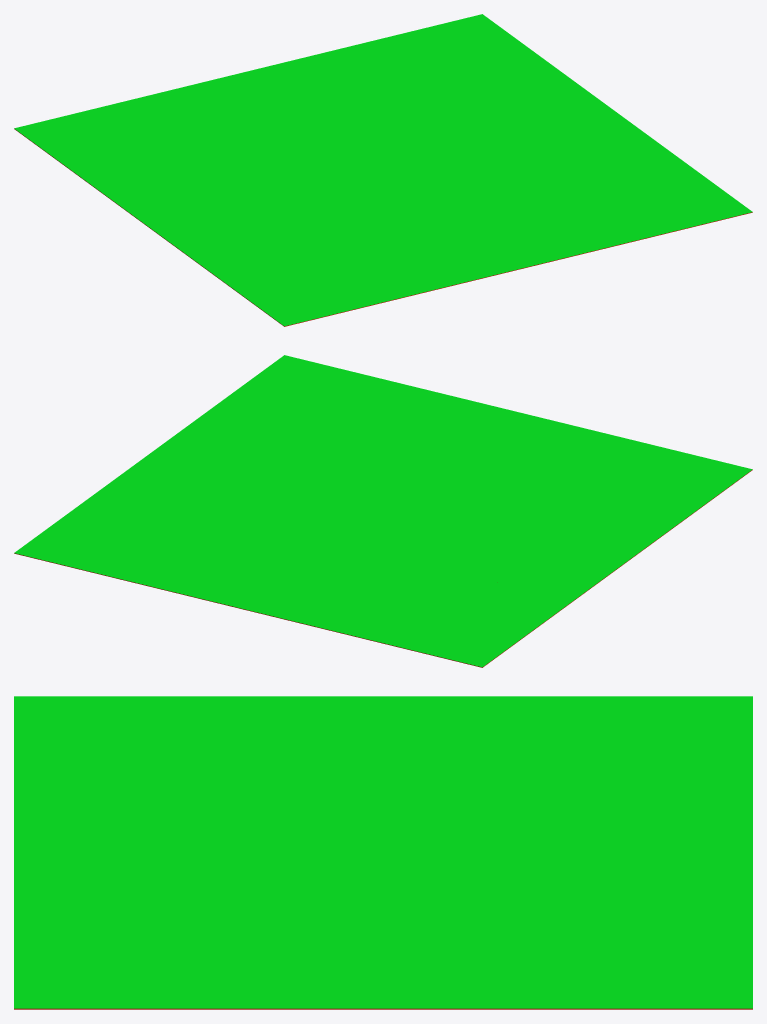
File: nowy2_kolor_Podzial.fbx
3 renders of one model, top to bottom at view 1: azimuth 30°, elevation 25°; view 2: azimuth 150°, elevation 25°; view 3: azimuth 270°, elevation 25°, orthographic. The views are drawn at different scales.
Visible parts, largest first — view 1: Plane.006, Plane.014, Plane.001, Plane.024, Plane.016, Plane.010, Plane.015, Plane.011, Plane.018, Plane.008, Plane.002, Plane.023 (+10 smaller); view 2: Plane.006, Plane.014, Plane.001, Plane.024, Plane.010, Plane.016, Plane.015, Plane.011, Plane.008, Plane.018, Plane.002, Plane.023 (+10 smaller); view 3: Plane.014, Plane.006, Plane.024, Plane.001, Plane.010, Plane.016, Plane.015, Plane.011, Plane.018, Plane.008, Plane.023, Plane.002 (+10 smaller).
Part boxes in pixels (box(x1,y1,x2,y2)): Plane.006: box(304, 32, 468, 170); Plane.014: box(384, 35, 521, 178); Plane.001: box(148, 25, 447, 123); Plane.024: box(490, 33, 675, 171); Plane.016: box(284, 240, 438, 326); Plane.010: box(203, 229, 338, 326); Plane.015: box(339, 170, 462, 251); Plane.011: box(239, 161, 382, 240); Plane.018: box(438, 179, 560, 251); Plane.008: box(145, 152, 303, 228); Plane.002: box(14, 95, 185, 167); Plane.023: box(609, 155, 752, 235); Plane.006: box(63, 511, 404, 569); Plane.014: box(58, 477, 382, 547); Plane.001: box(58, 556, 386, 634); Plane.024: box(40, 411, 273, 538); Plane.010: box(550, 469, 752, 534); Plane.016: box(523, 435, 751, 492); Plane.015: box(362, 450, 549, 511); Plane.011: box(384, 492, 575, 544); Plane.008: box(405, 534, 576, 585); Plane.018: box(341, 410, 522, 477); Plane.002: box(348, 606, 536, 667); Plane.023: box(207, 355, 377, 427); Plane.014: box(304, 852, 702, 996); Plane.006: box(384, 819, 724, 987); Plane.024: box(225, 949, 682, 1009); Plane.001: box(612, 785, 752, 978); Plane.010: box(14, 696, 316, 782); Plane.016: box(14, 696, 216, 824); Plane.015: box(118, 782, 382, 885); Plane.011: box(217, 740, 462, 852); Plane.018: box(60, 824, 303, 919); Plane.008: box(317, 716, 541, 818); Plane.023: box(14, 946, 224, 1009); Plane.002: box(605, 696, 752, 785).
Bounding box in the file's own units: 200 × 0.2139 × 200.
